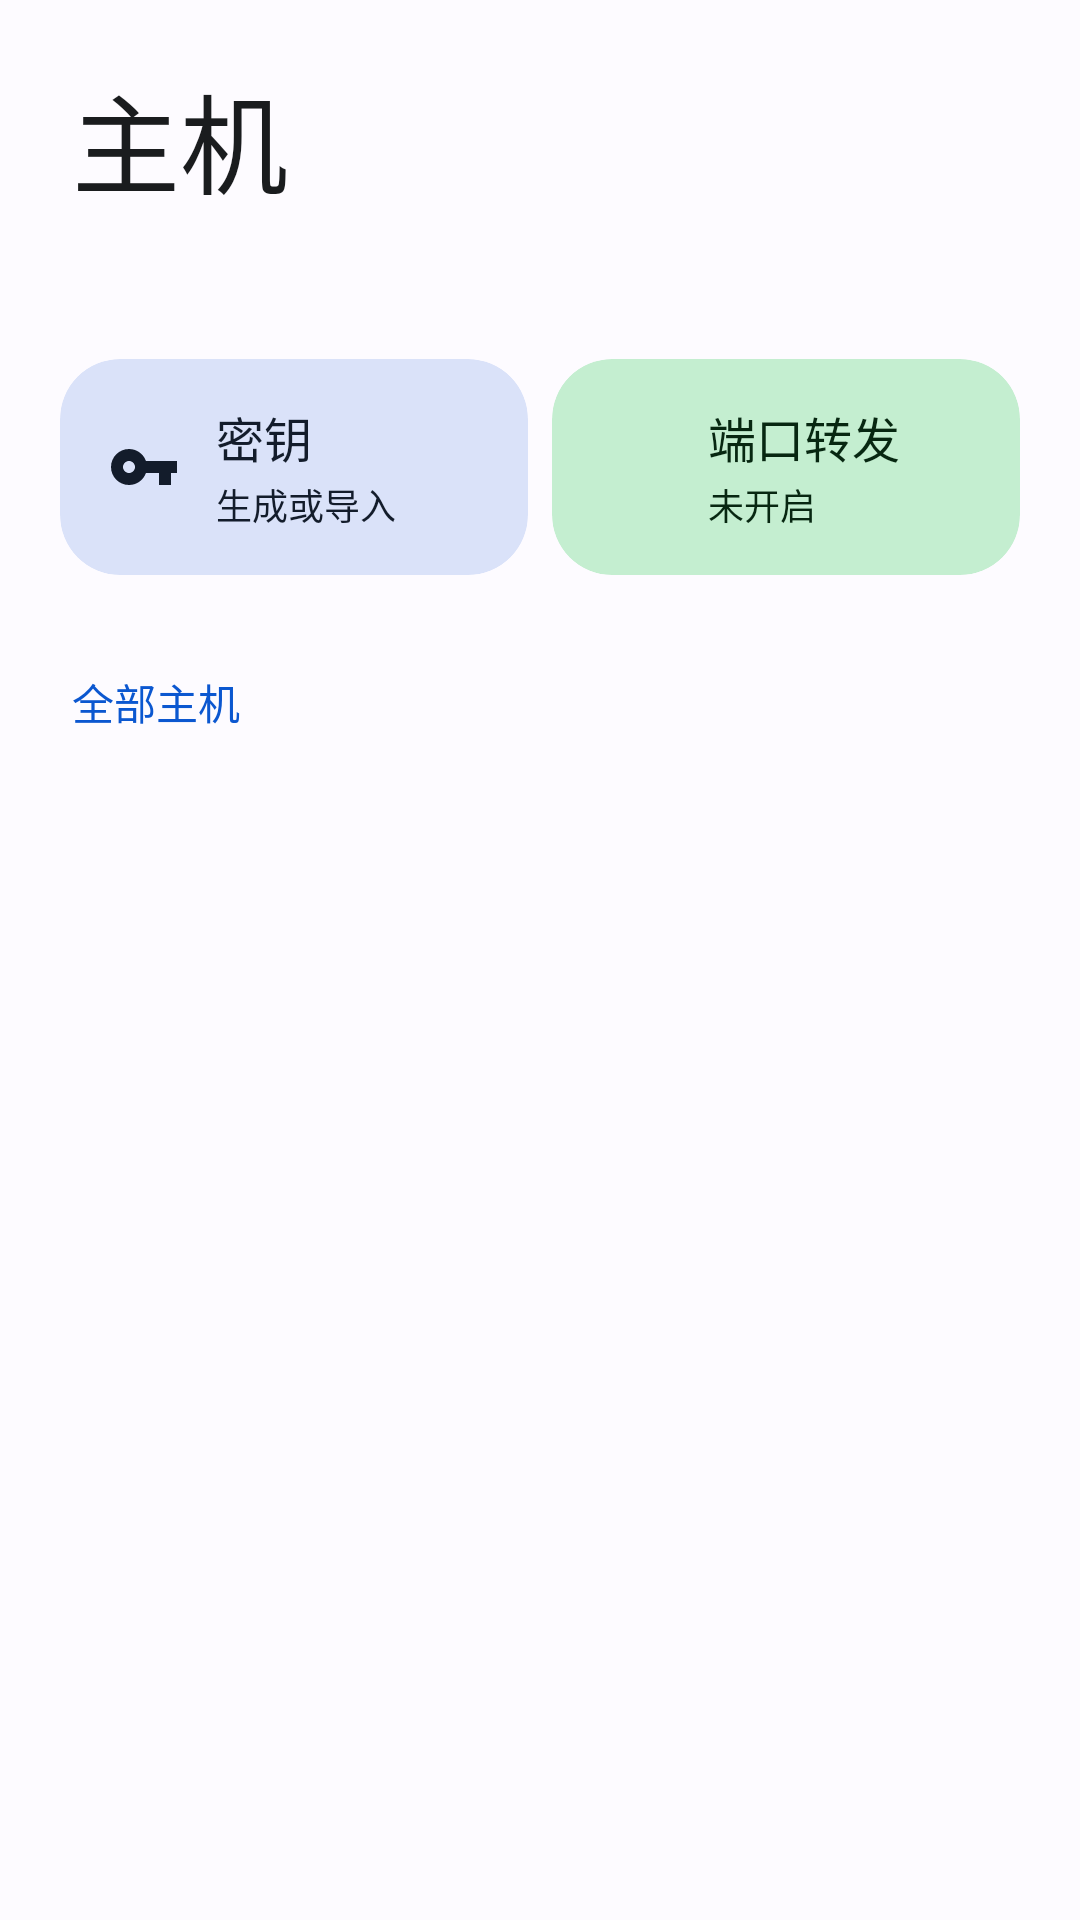

Locate icon controls on the screen. Image size 1080 × 1920, boxes as (x1, y1, x2, y2).
key: (111, 449, 177, 485)
